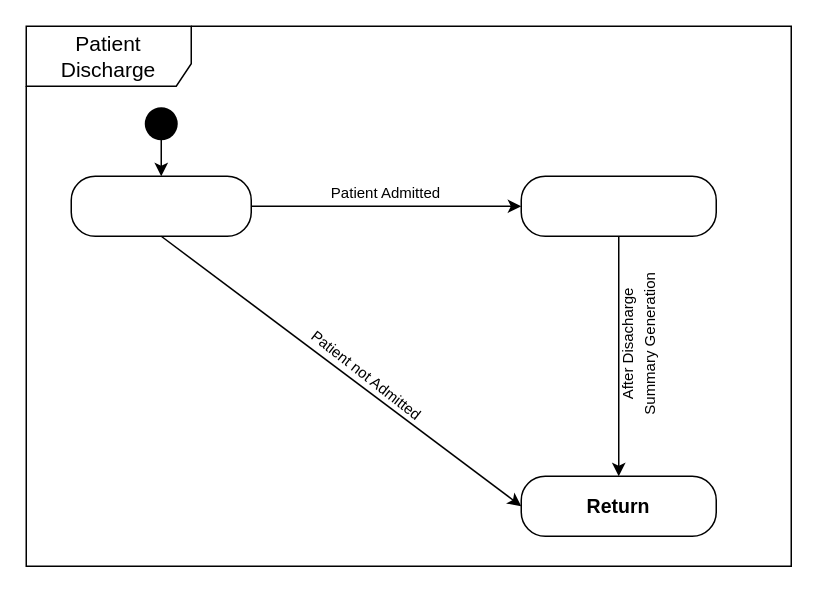
This 818x593 diagram has some shape labels left out. Here are the shapes that lost their labels. From the top down, the centre of each, then its label:
the point at 160,205: Patient Addmitted
the point at 618,205: Generate Discharge Summary
